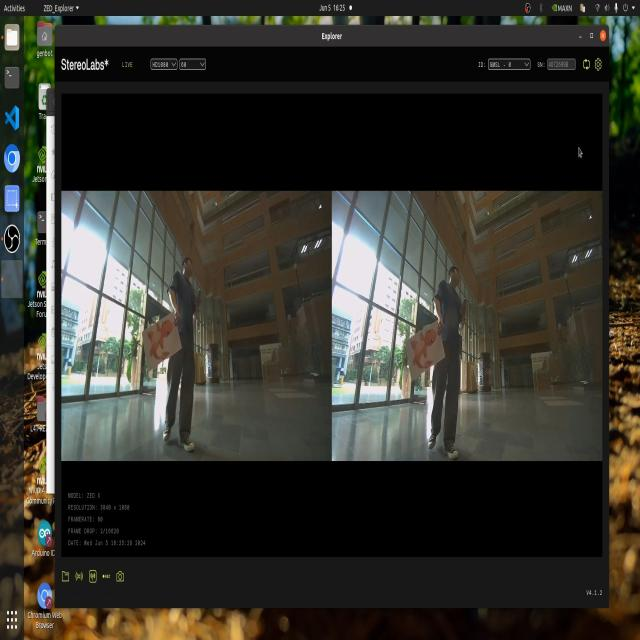red: (403, 327, 439, 378), (153, 314, 175, 358)
